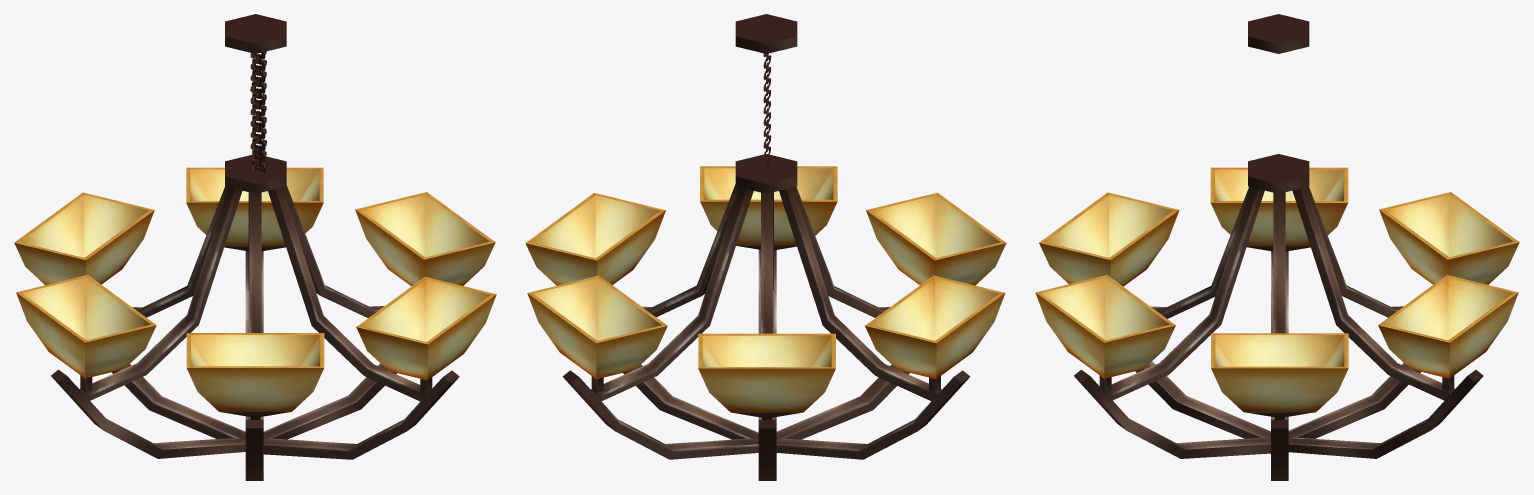
File: furni_0200709.FBX
The picture shows the model from 3 angles, left to right: view 1: azimuth 30°, elevation 25°; view 2: azimuth 150°, elevation 25°; view 3: azimuth 270°, elevation 25°; orthographic projection.
Visible parts, largest first — view 1: furni_0200709; view 2: furni_0200709; view 3: furni_0200709.
Part boxes in pixels (box(x1,y1,x2,y2)): furni_0200709: box(14, 14, 496, 480); furni_0200709: box(525, 14, 1006, 480); furni_0200709: box(1035, 14, 1519, 480).
Bounding box in the file's own units: 79.94 × 78.22 × 81.57.
Materials: 1 (1 with a texture image).
